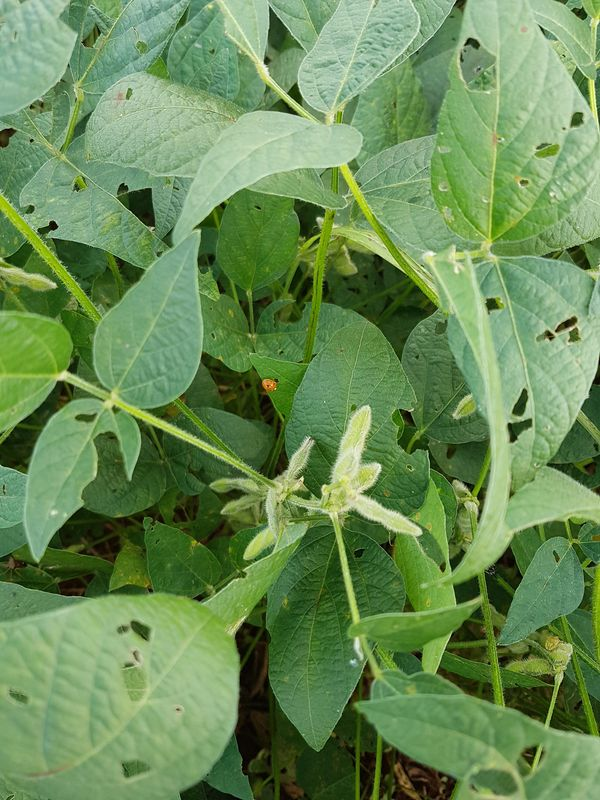Coccinellidae: (257, 375, 280, 395)
Euschistus_heros_ninfa: (541, 631, 565, 654)
